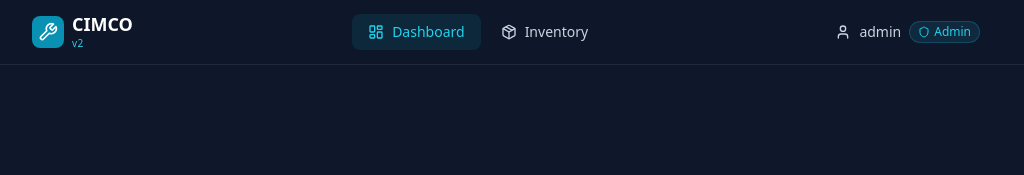
Scenario: Navigation › opens user menu when clicked
This screenshot has width=1024, height=175.
Click the text "admin" at (880, 32), box [859,22,901,42]
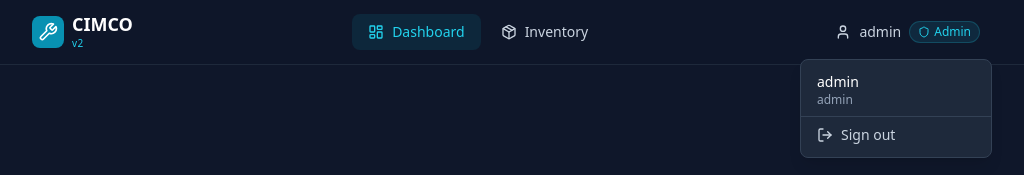
Check: the button "Sign out" is shown, box [801,117,991,153]
